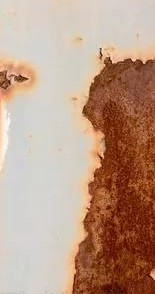Corrosion: (71, 46, 155, 294), (1, 56, 39, 102)
